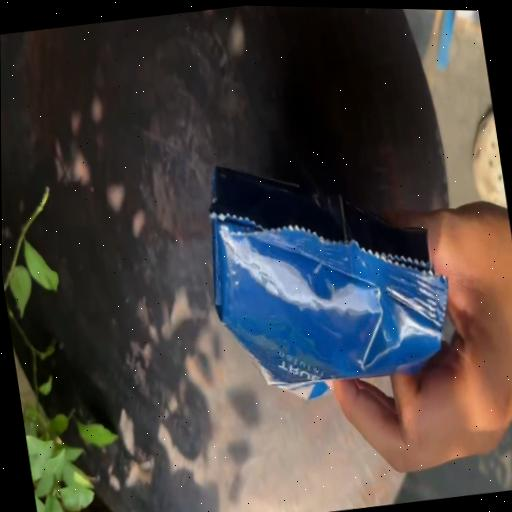cafe_hat: (209, 167, 447, 398)
